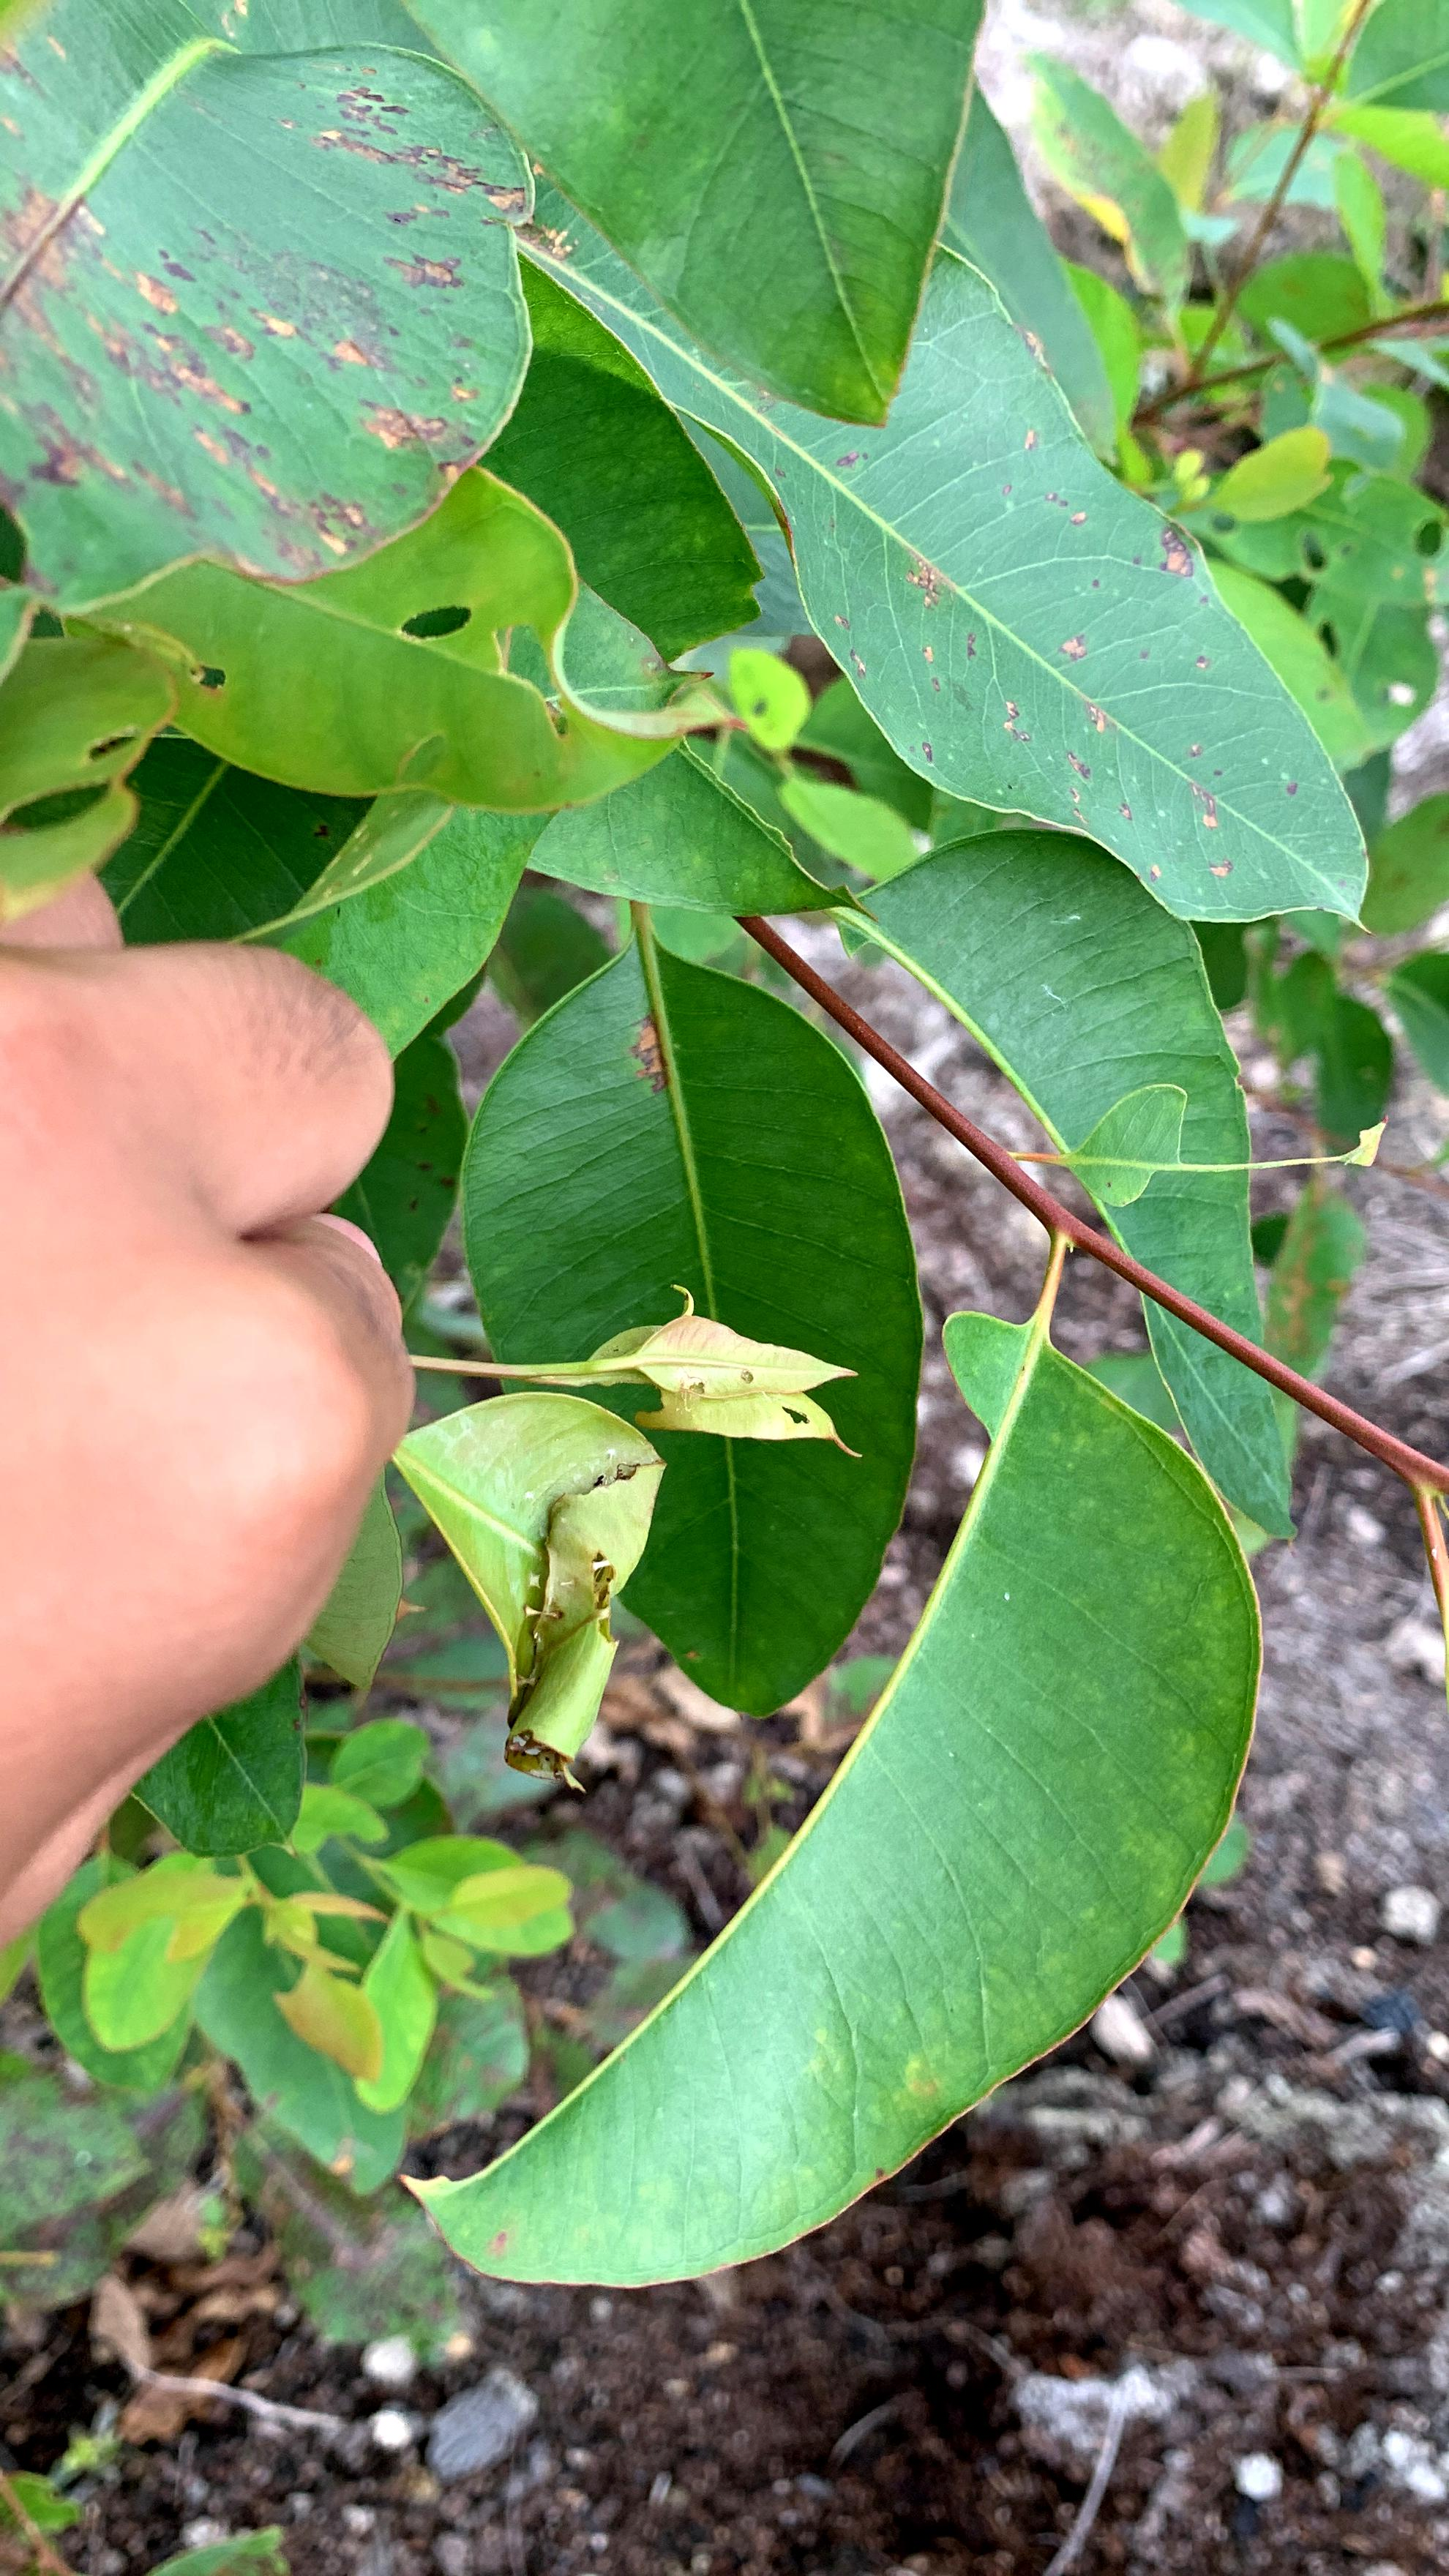Leaf Roller - Leaf: (377, 1267, 886, 1794)
